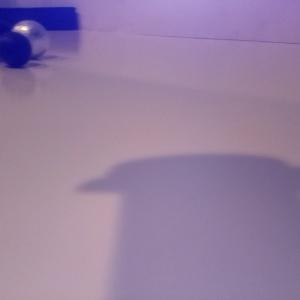alive_ball: (12, 20, 49, 59)
dead_ball: (1, 32, 32, 67)
